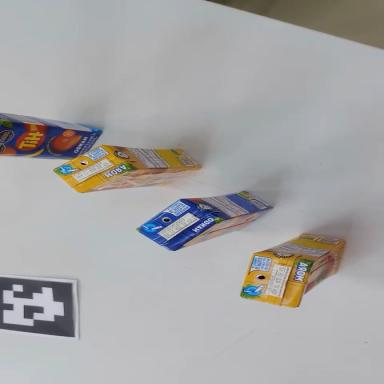HIT-MANGO: (133, 171, 275, 260), (0, 113, 103, 169)
HIT-MORA: (52, 134, 202, 196), (241, 226, 345, 314)
cara_F: (283, 238, 358, 307), (171, 203, 275, 251), (0, 121, 103, 168), (81, 165, 202, 193)
